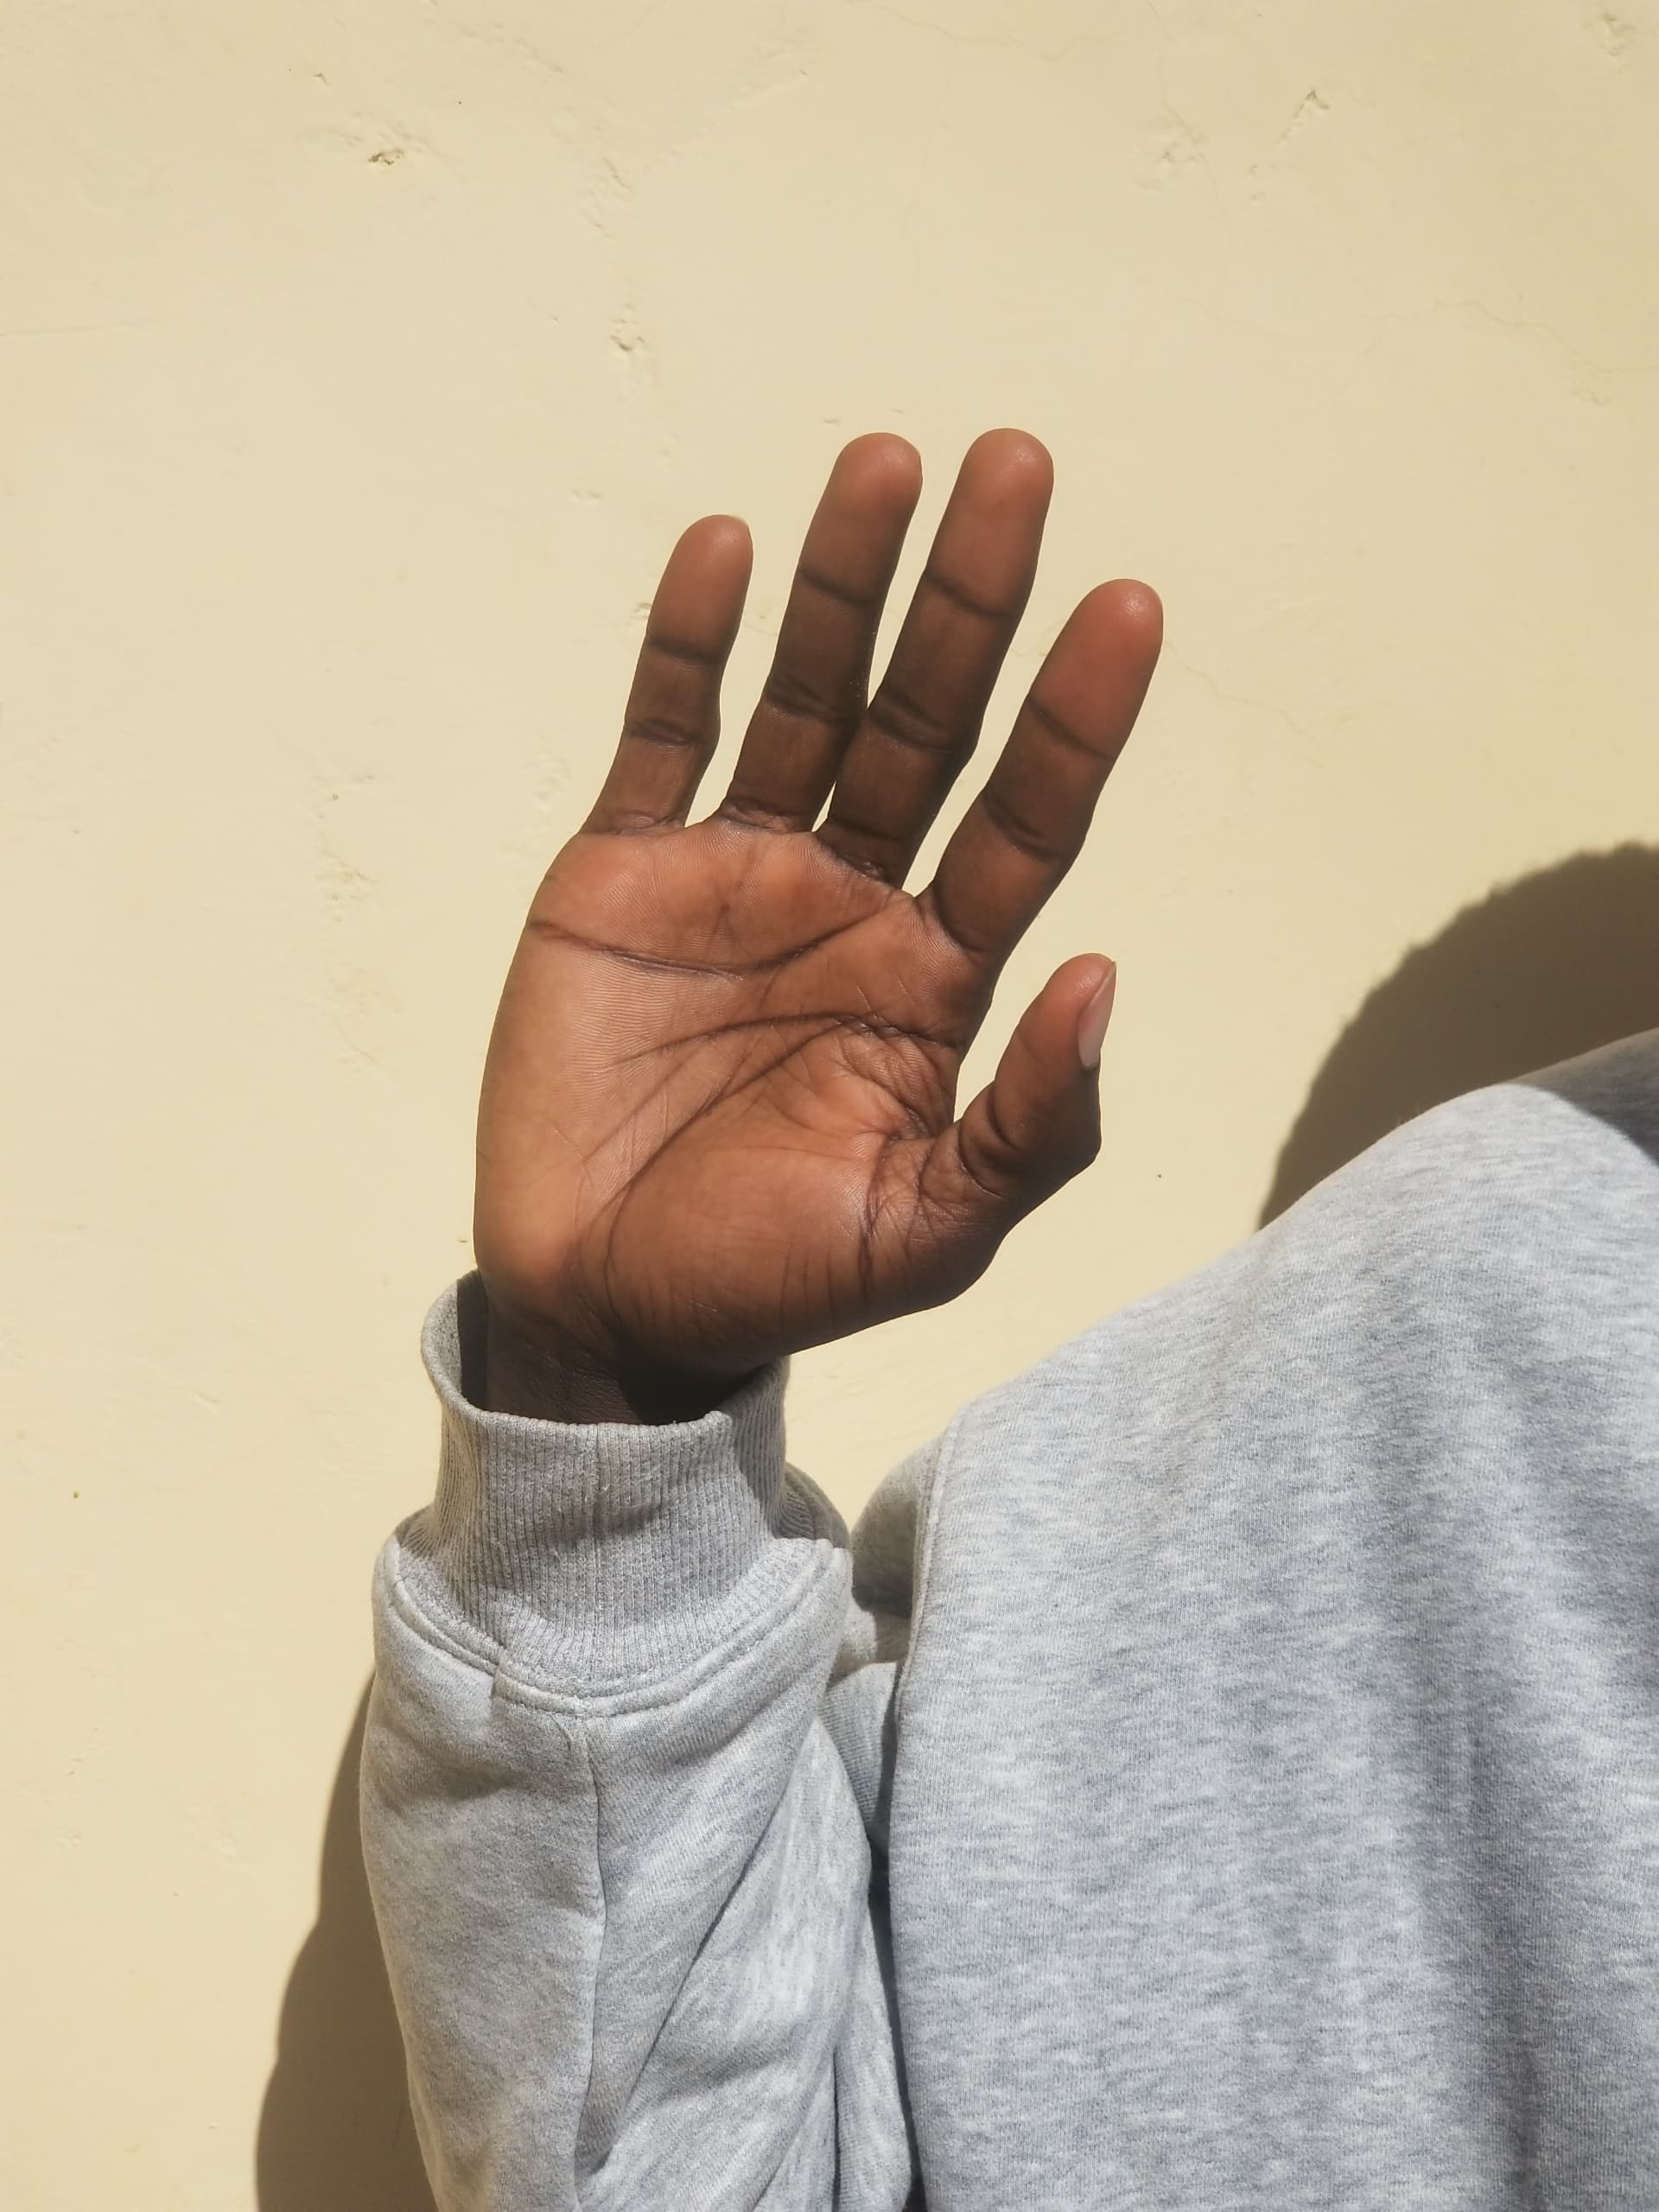hello: (390, 373, 1253, 1660)
